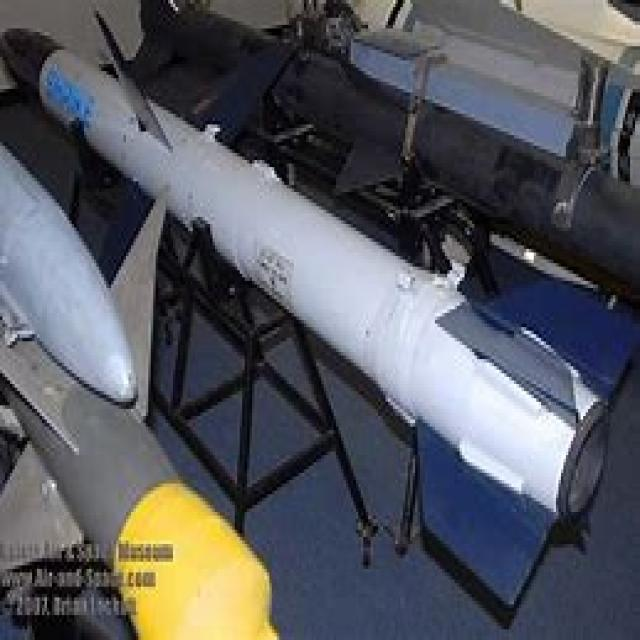missile: (1, 23, 620, 518)
